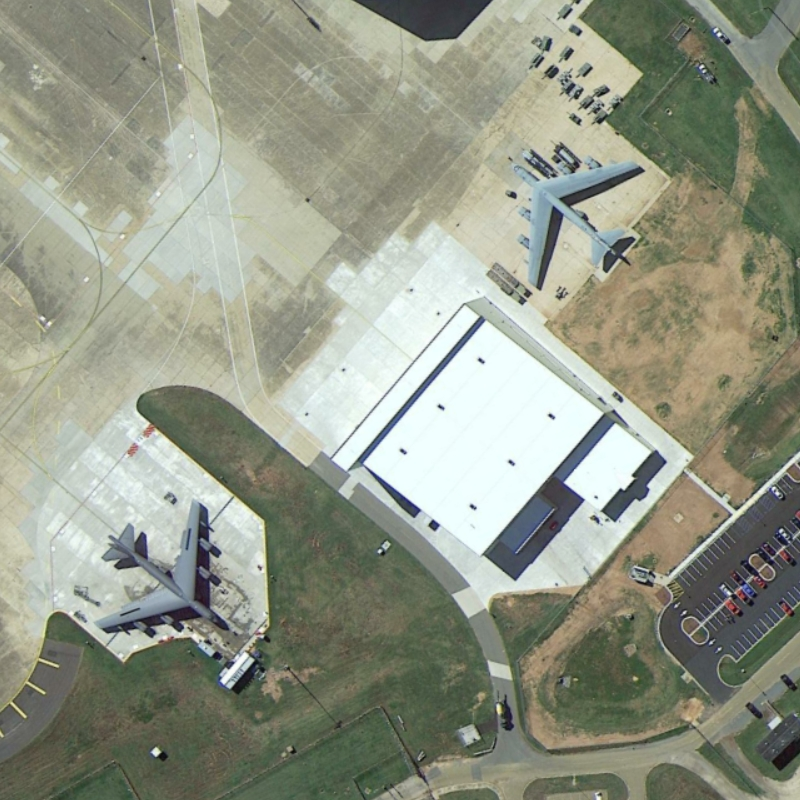A8: (502, 145, 649, 297), (90, 495, 235, 638)
